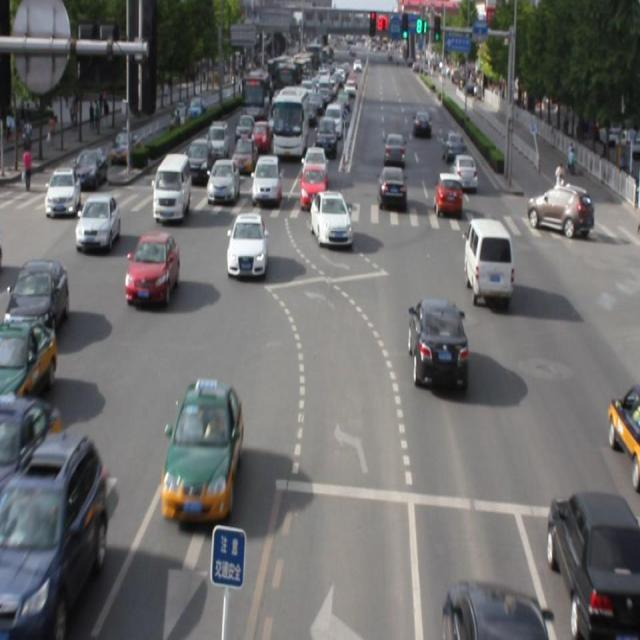car: (12, 426, 103, 621), (536, 484, 638, 640), (162, 377, 244, 504), (403, 301, 478, 410), (0, 296, 67, 405), (530, 183, 601, 260), (8, 248, 72, 327), (467, 229, 520, 308), (305, 190, 355, 268), (148, 152, 203, 217), (128, 228, 170, 304), (226, 217, 268, 286), (44, 159, 81, 229), (298, 142, 329, 212), (75, 136, 114, 190), (280, 80, 306, 156), (434, 176, 469, 228), (454, 141, 483, 202), (85, 184, 114, 244), (378, 159, 409, 213), (206, 111, 236, 165), (210, 154, 239, 205), (257, 159, 288, 205), (406, 94, 435, 141), (383, 118, 408, 168)
